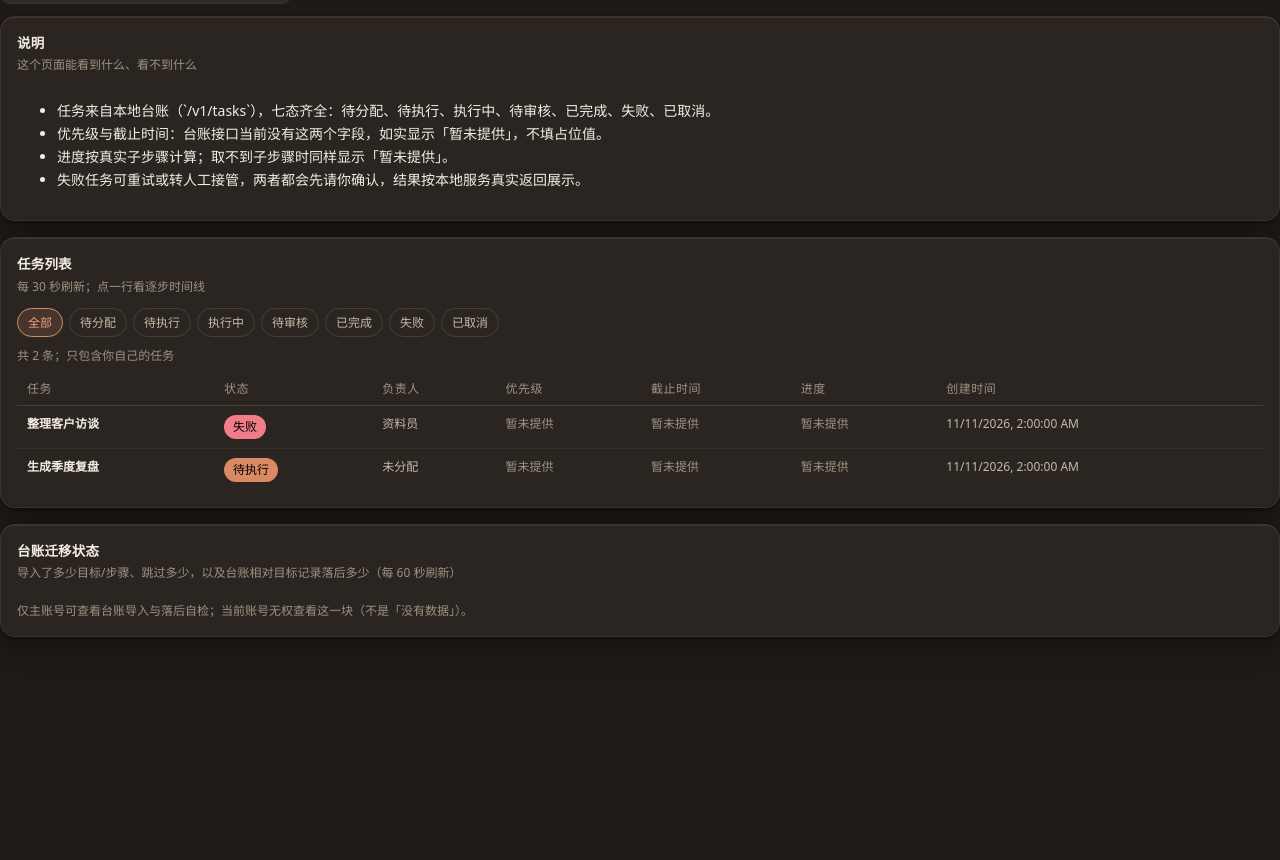
失败处理 › 重试必须先确认；确认后按真实 step_key 提交并显示后端结果
The image size is (1280, 860).
Click the button "整理客户访谈" at (63, 424), box [27, 415, 99, 433]
(page scrolled)
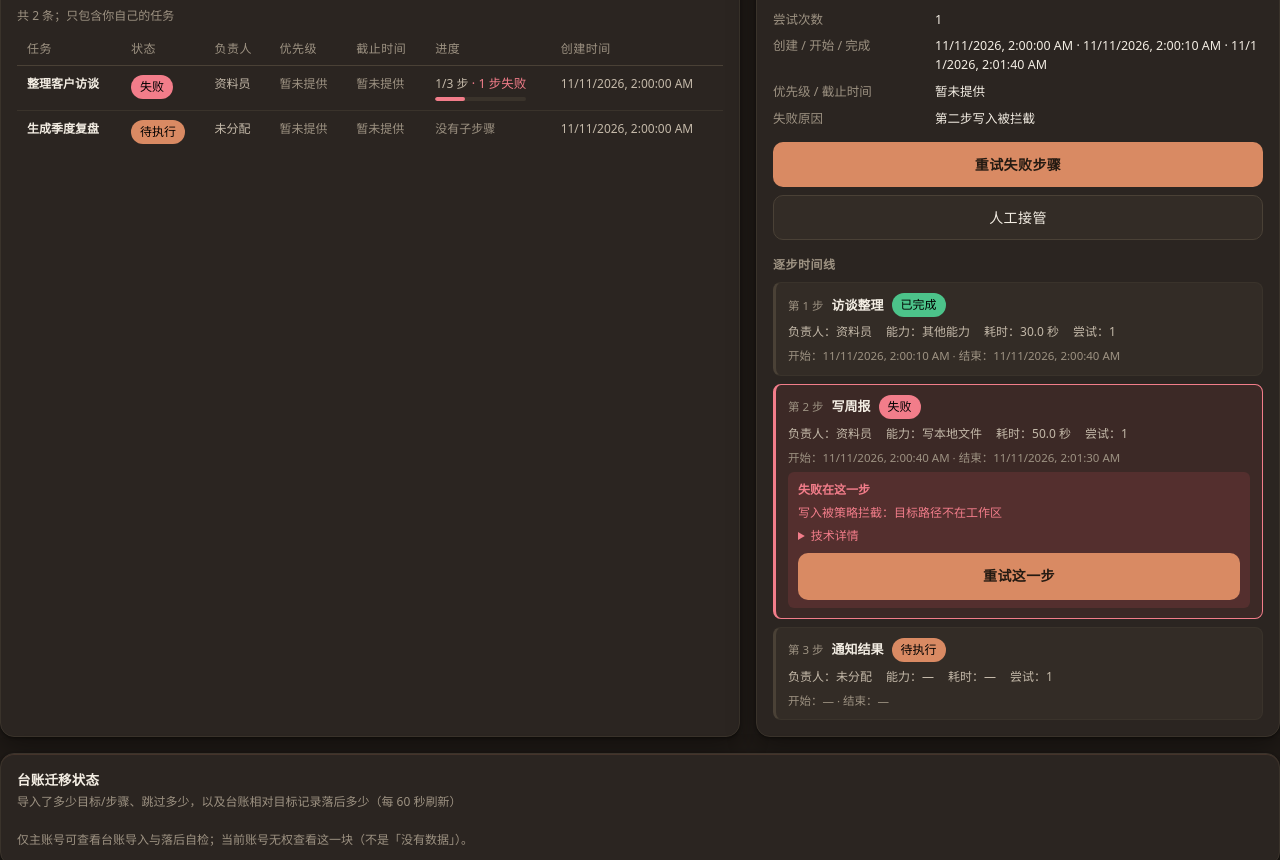
expect the heading "逐步时间线" is shown: met, box [773, 256, 835, 273]
Click the button "重试这一步" at (1019, 576), box [798, 553, 1240, 600]
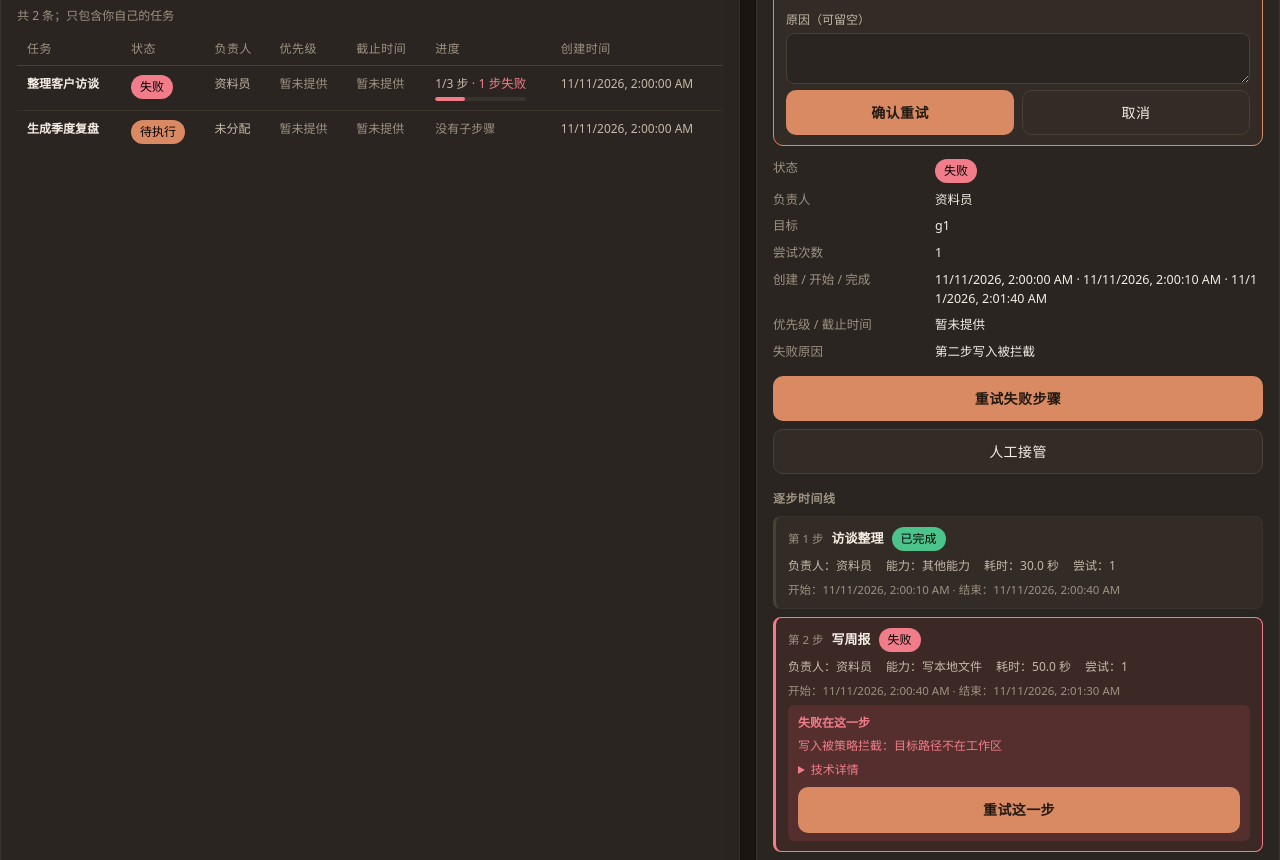
Click the button "确认重试" at (900, 112), box [786, 90, 1014, 135]
(page scrolled)
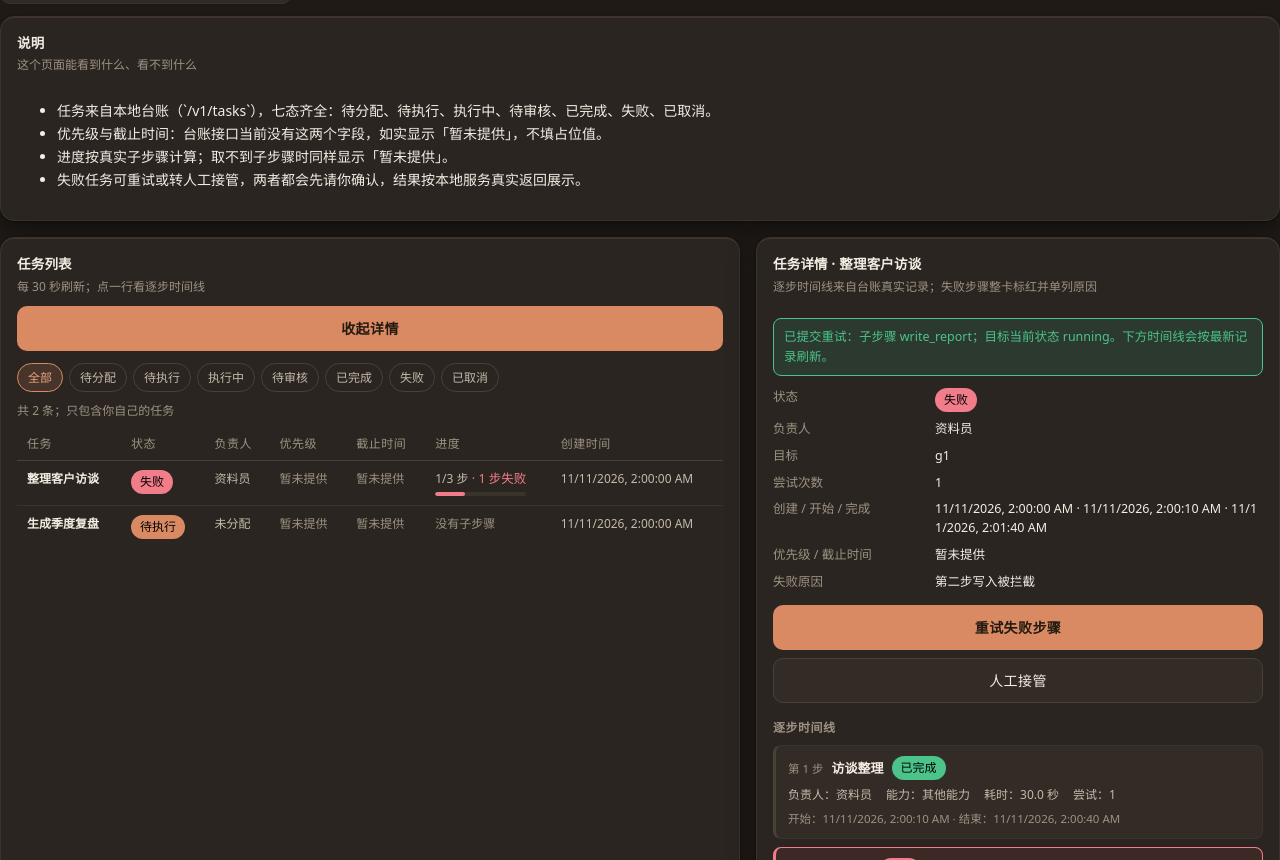
expect the text "已提交重试：子步骤 write_report；目标当前状态 running。下方时间线会按最新记录刷新。" is shown: met, box [773, 318, 1263, 376]
